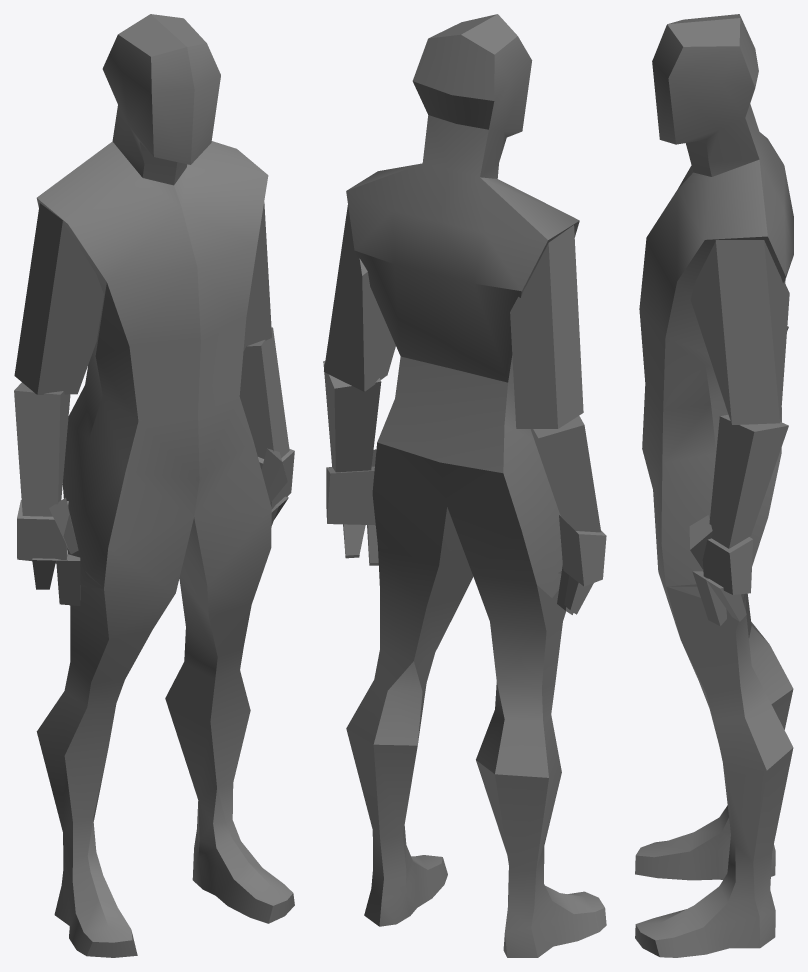
File: human2.obj
The picture shows the model from 3 angles, left to right: view 1: azimuth 30°, elevation 25°; view 2: azimuth 150°, elevation 25°; view 3: azimuth 270°, elevation 25°; orthographic projection.
Visible parts, largest first — view 1: HumanScale; view 2: HumanScale; view 3: HumanScale.
Part boxes in pixels (bbox=[...]): HumanScale: bbox=[14, 14, 294, 957]; HumanScale: bbox=[323, 14, 606, 957]; HumanScale: bbox=[635, 14, 793, 957].
Bounding box in the file's own units: 65.72 × 200 × 32.48.
1 material, 1 textured.
